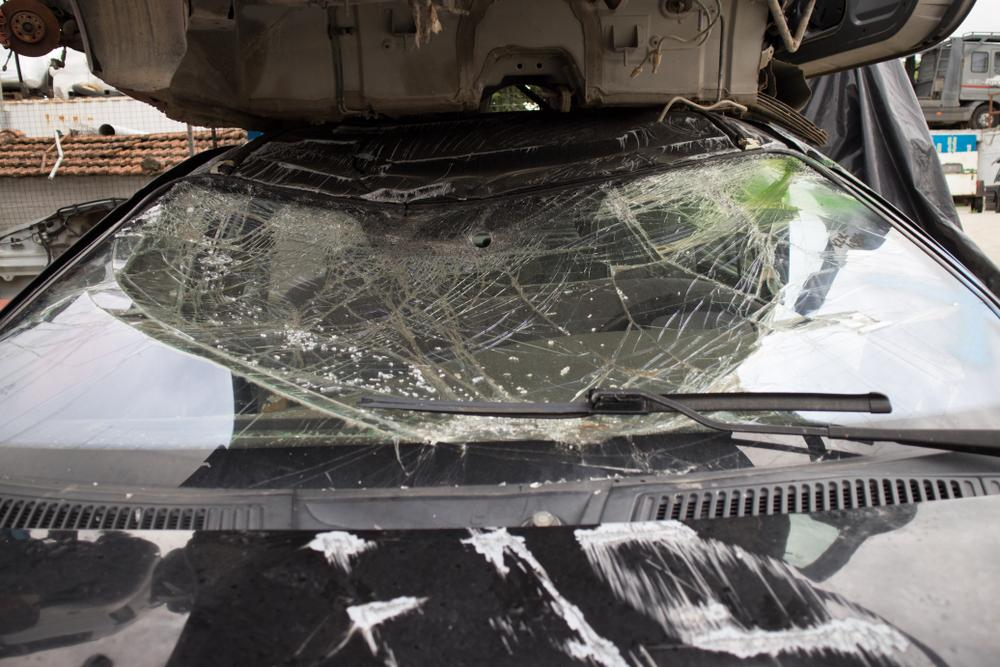glass shatter: (0, 155, 1000, 489)
scratch: (301, 517, 933, 667)
